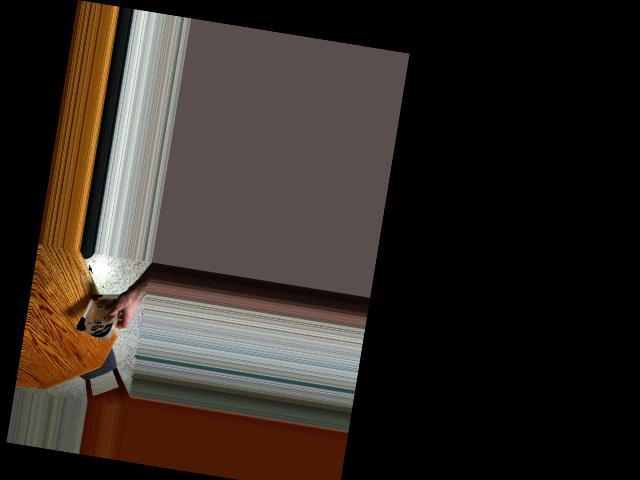cheese: (79, 287, 122, 343)
